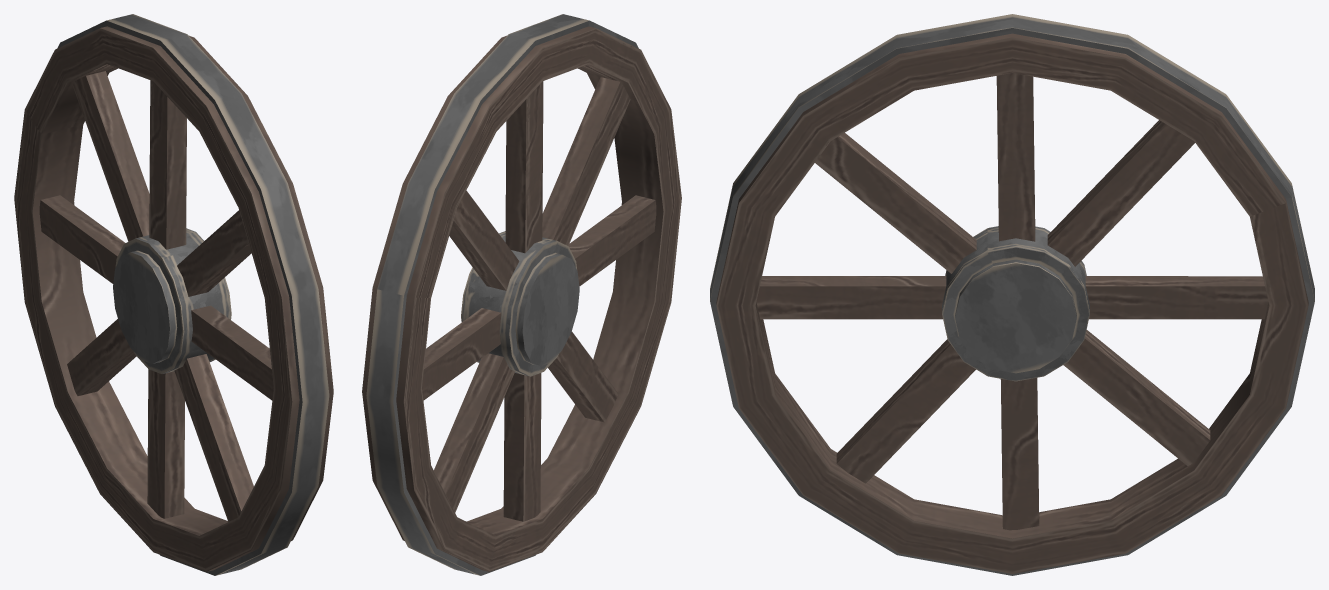
The model's file is SM_Wheel1.fbx.
3 views of the same model, side by side, from view 1: azimuth 30°, elevation 25°; view 2: azimuth 150°, elevation 25°; view 3: azimuth 270°, elevation 25° (orthographic). The views are drawn at different scales.
Parts seen in each view (by area): view 1: SM_Wheel1; view 2: SM_Wheel1; view 3: SM_Wheel1.
Part boxes in pixels (x1,y1,x2,y2): SM_Wheel1: (14, 14, 333, 575); SM_Wheel1: (362, 14, 681, 575); SM_Wheel1: (710, 14, 1314, 575).
Bounding box in the file's own units: 4.08 × 32.54 × 32.54.
